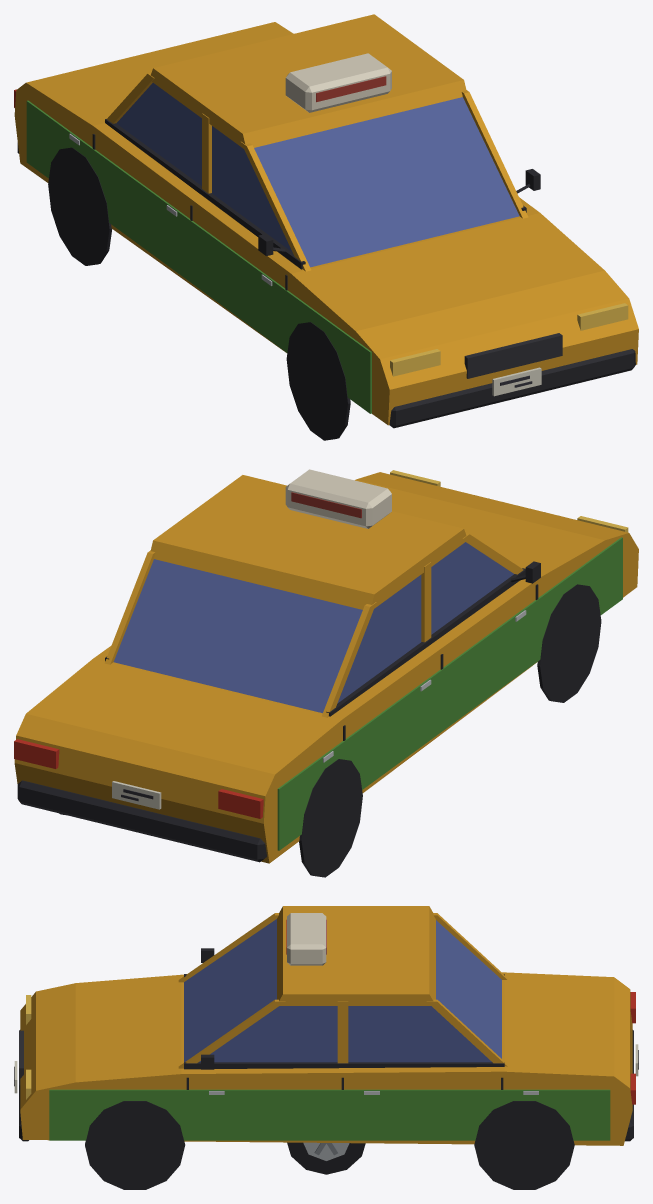
The model's file is taxi.glb.
3 renders of one model, top to bottom at view 1: azimuth 30°, elevation 25°; view 2: azimuth 150°, elevation 25°; view 3: azimuth 270°, elevation 25°, orthographic. The views are drawn at different scales.
Parts seen in each view (by area): view 1: body, lights; view 2: body, lights; view 3: body, wheel0, lights.
Boxes of the visible parts, x1=… form: body: x1=14, y1=14, x2=638, y2=440; lights: x1=14, y1=89, x2=628, y2=376; body: x1=14, y1=469, x2=638, y2=877; lights: x1=14, y1=470, x2=628, y2=818; body: x1=14, y1=906, x2=638, y2=1189; wheel0: x1=287, y1=1142, x2=365, y2=1174; lights: x1=26, y1=992, x2=635, y2=1104.
Bounding box in the file's own units: 1.96 × 2.01 × 4.73.
